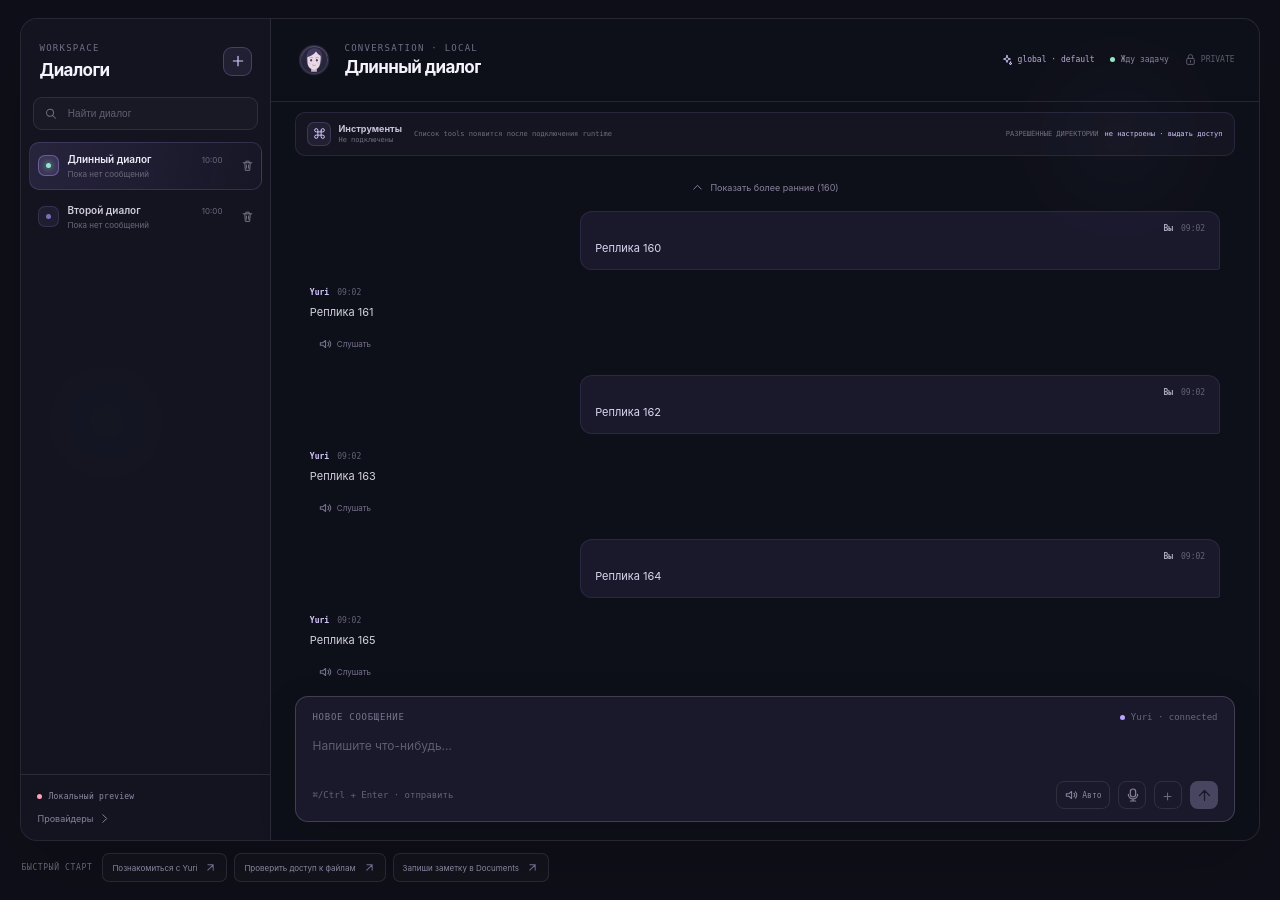
it: a long conversation opens windowed (H-18) › re-windows when another conversation is opened
Expected: the text box named "Сообщение Yuri" is shown, [312,722,1218,781]
Click the button "Показать более ранние (160)": (765, 187) [691,181,839,194]
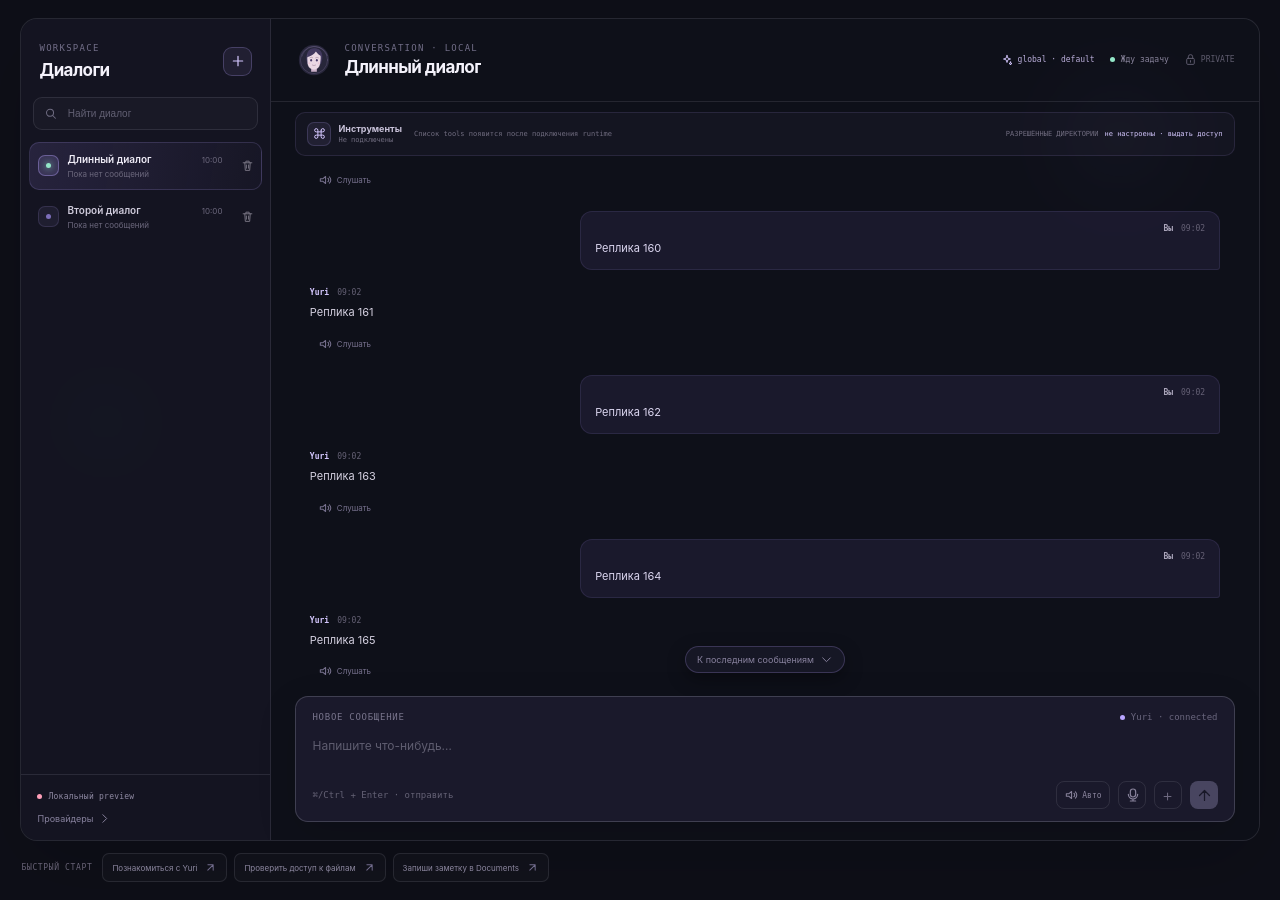
Click the text "Второй диалог": (104, 210) [68,204,141,216]
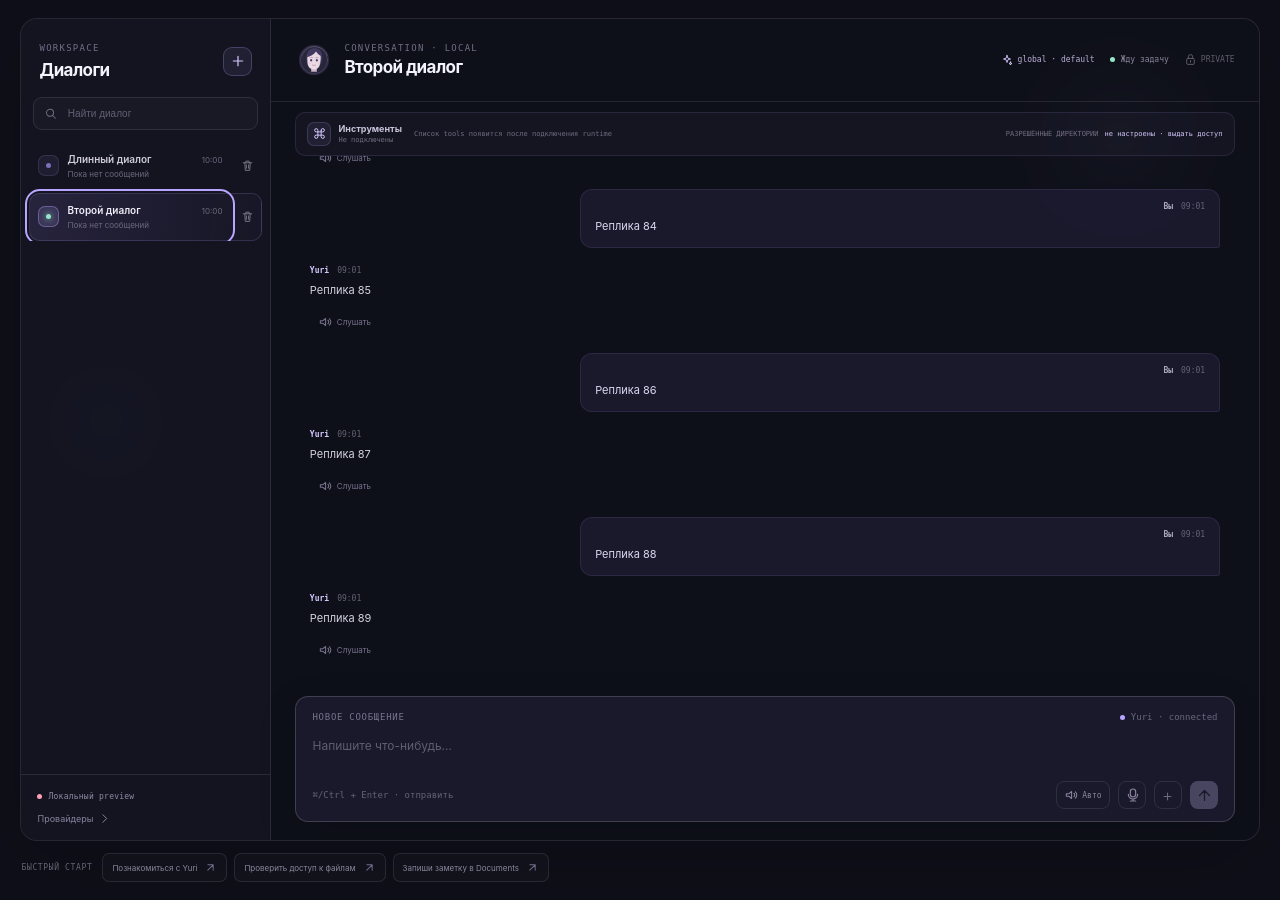
Click the text "Длинный диалог": (110, 159) [68,153,152,165]
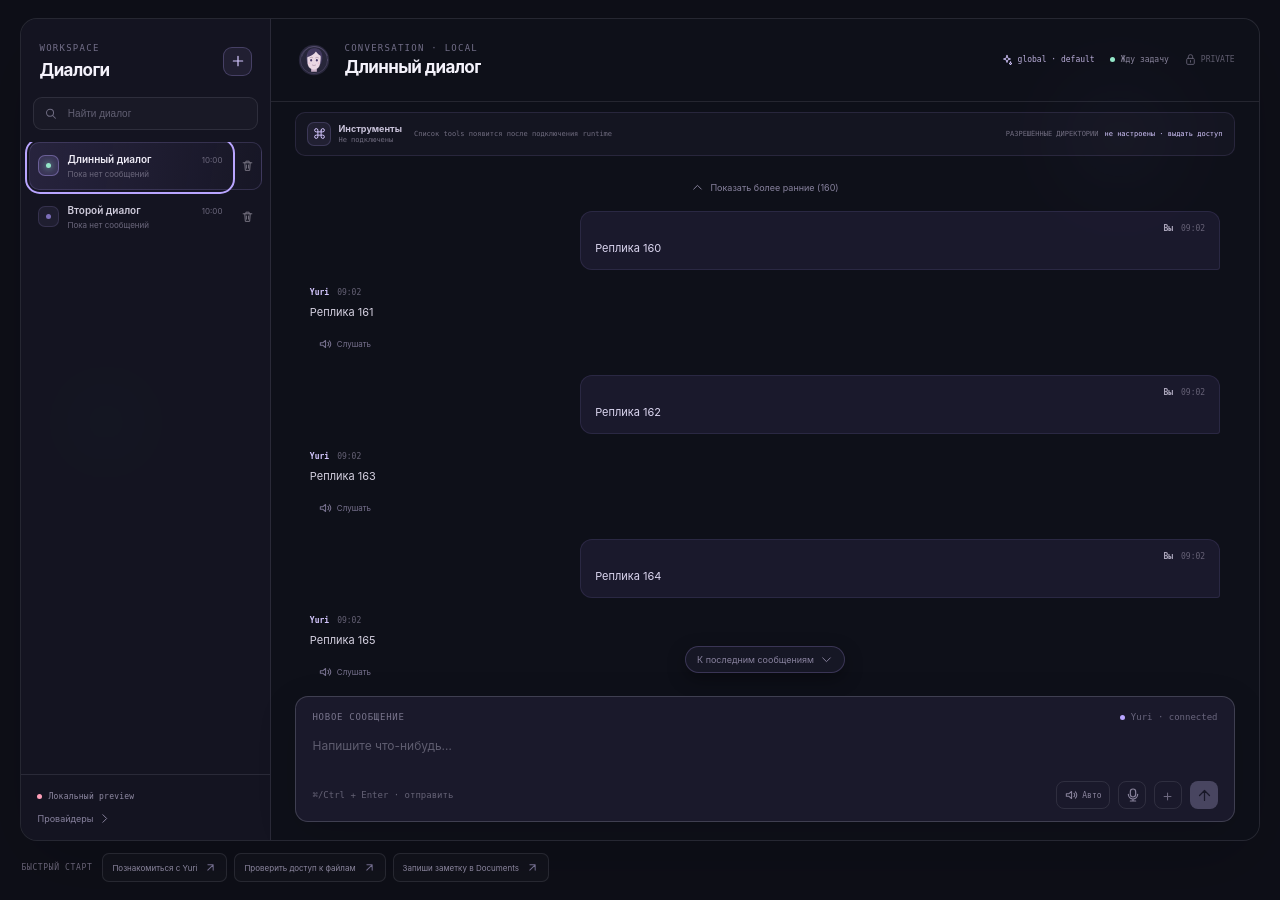
Expected: the button "Показать более ранние (160)" is shown, [691,181,839,194]
